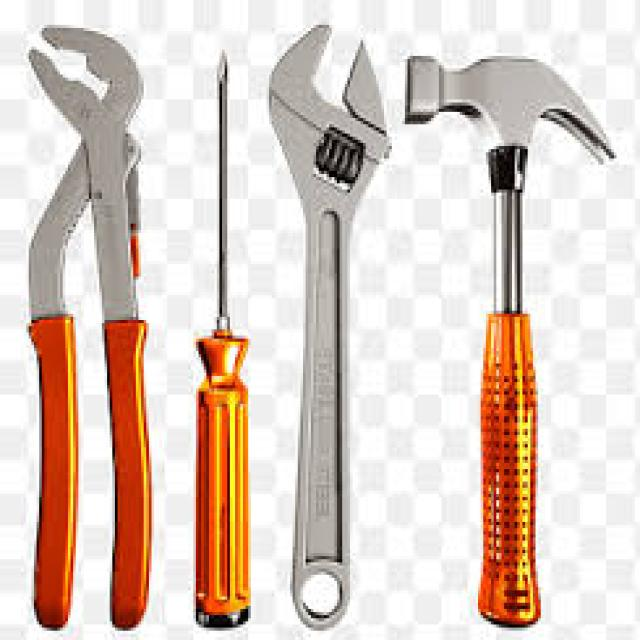wrench: (252, 24, 394, 560)
